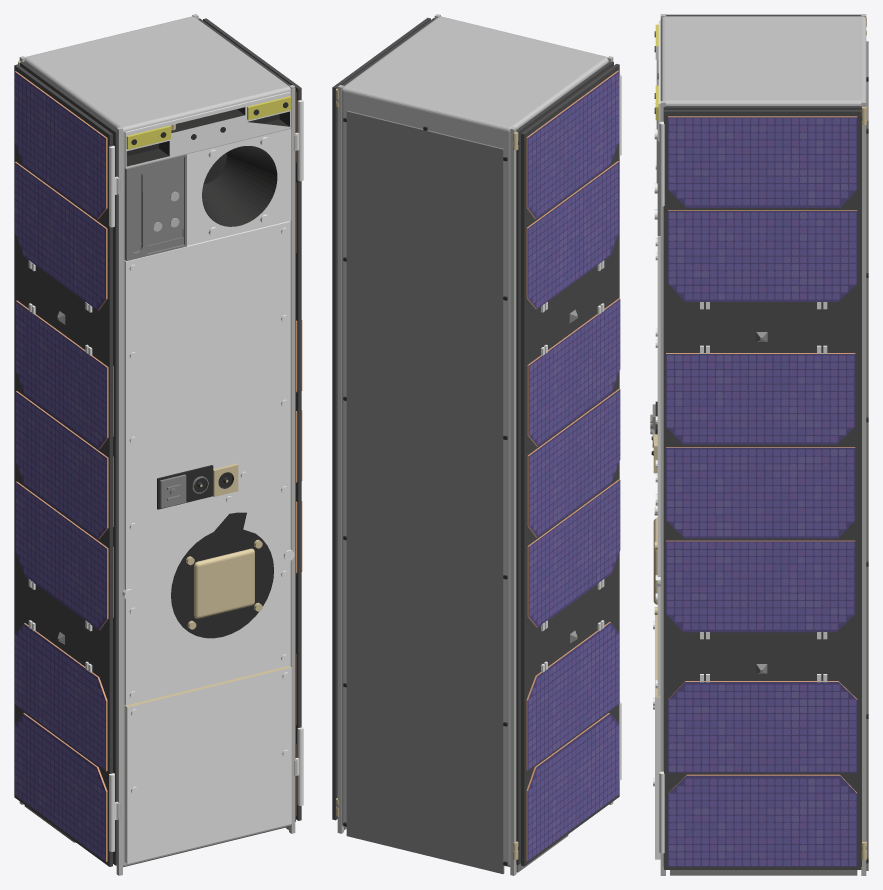
File: cubesat.glb
3 views of the same model, side by side, from view 1: azimuth 30°, elevation 25°; view 2: azimuth 150°, elevation 25°; view 3: azimuth 270°, elevation 25° (orthographic). The views are drawn at different scales.
Parts seen in each view (by area): view 1: Layer_0, Layer_3, Layer_2; view 2: Layer_0, Layer_3, Layer_2; view 3: Layer_3, Layer_0, Layer_2.
Part boxes in pixels (x1,y1,x2,y2): Layer_0: (18,14,303,875); Layer_3: (14,71,302,861); Layer_2: (14,18,301,866); Layer_0: (336,14,621,875); Layer_3: (526,70,620,861); Layer_2: (332,17,619,866); Layer_3: (666,116,857,866); Layer_0: (650,14,868,875); Layer_2: (663,14,861,869).
Bounding box in the file's own units: 2.34 × 8.29 × 2.12.
